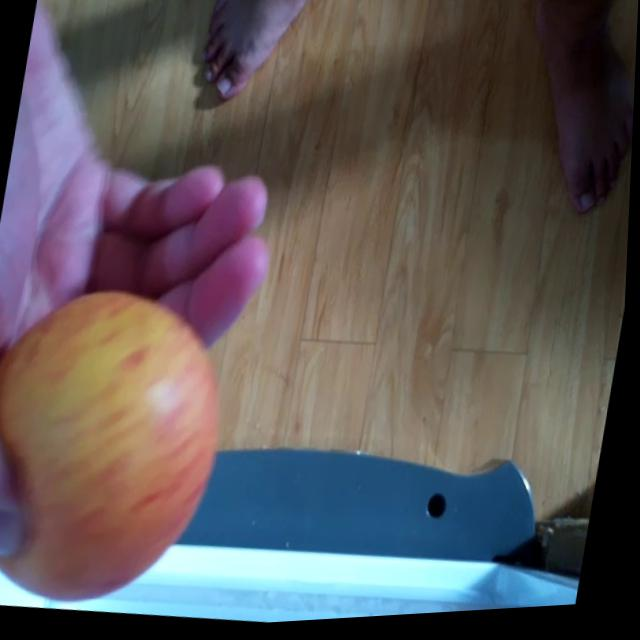apple: (0, 272, 246, 621)
